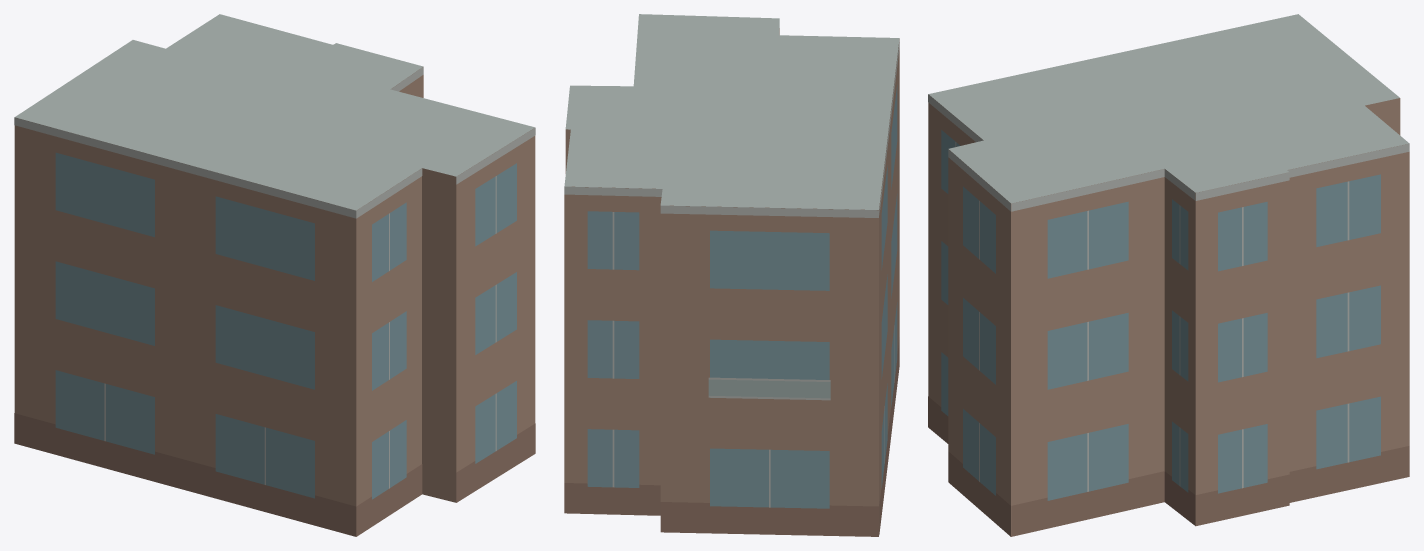
The model's file is survey-upis-32837190.glb.
3 renders of one model, left to right at view 1: azimuth 30°, elevation 25°; view 2: azimuth 150°, elevation 25°; view 3: azimuth 270°, elevation 25°, orthographic. The views are drawn at different scales.
Parts seen in each view (by area): view 1: survey-upis-32837190.tmp; view 2: survey-upis-32837190.tmp; view 3: survey-upis-32837190.tmp.
Part boxes in pixels (box(x1,y1,x2,y2)): survey-upis-32837190.tmp: box(14, 14, 535, 536); survey-upis-32837190.tmp: box(564, 14, 899, 536); survey-upis-32837190.tmp: box(928, 14, 1409, 536).
Size of the model in its own units: 12.1 by 9.91 by 12.98.
